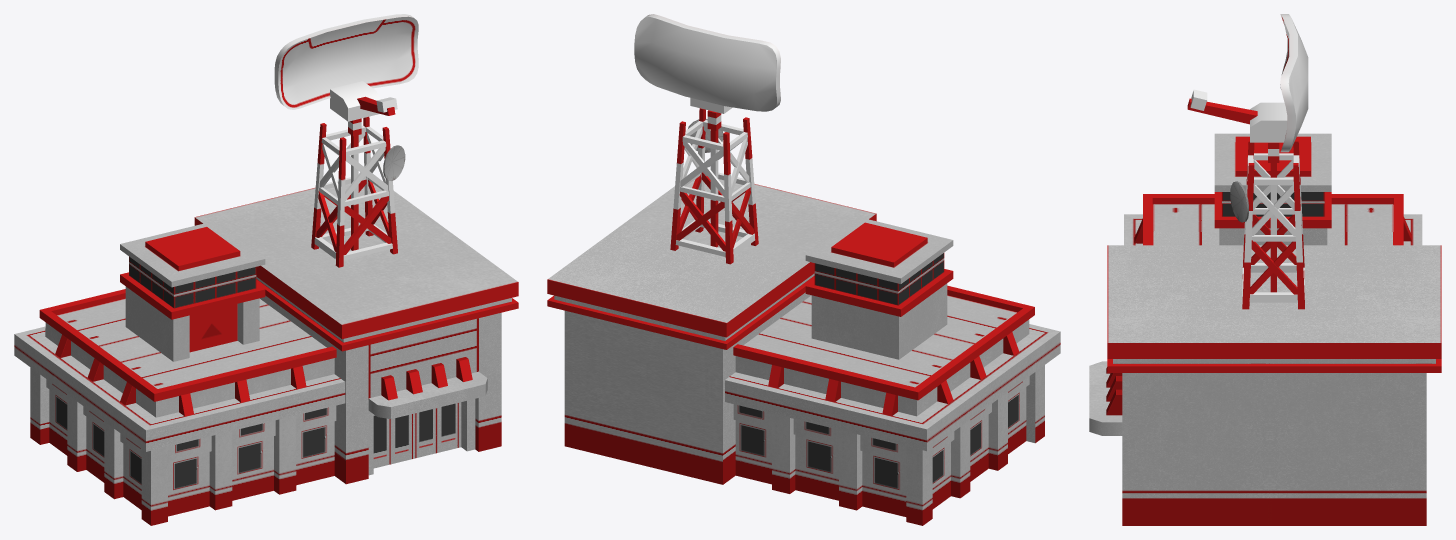
3 renders of one model, left to right at view 1: azimuth 30°, elevation 25°; view 2: azimuth 150°, elevation 25°; view 3: azimuth 270°, elevation 25°, orthographic. The views are drawn at different scales.
Visible parts, largest first — view 1: Base_3, radar; view 2: Base_3, radar; view 3: Base_3, radar.
Part boxes in pixels (x1,y1,x2,y2): Base_3: [14, 116, 518, 525]; radar: [274, 14, 418, 121]; Base_3: [547, 108, 1060, 525]; radar: [634, 14, 780, 113]; Base_3: [1089, 133, 1441, 525]; radar: [1187, 14, 1308, 152].
Bounding box in the file's own units: 612 × 616 × 451.
1 material, 1 textured.
